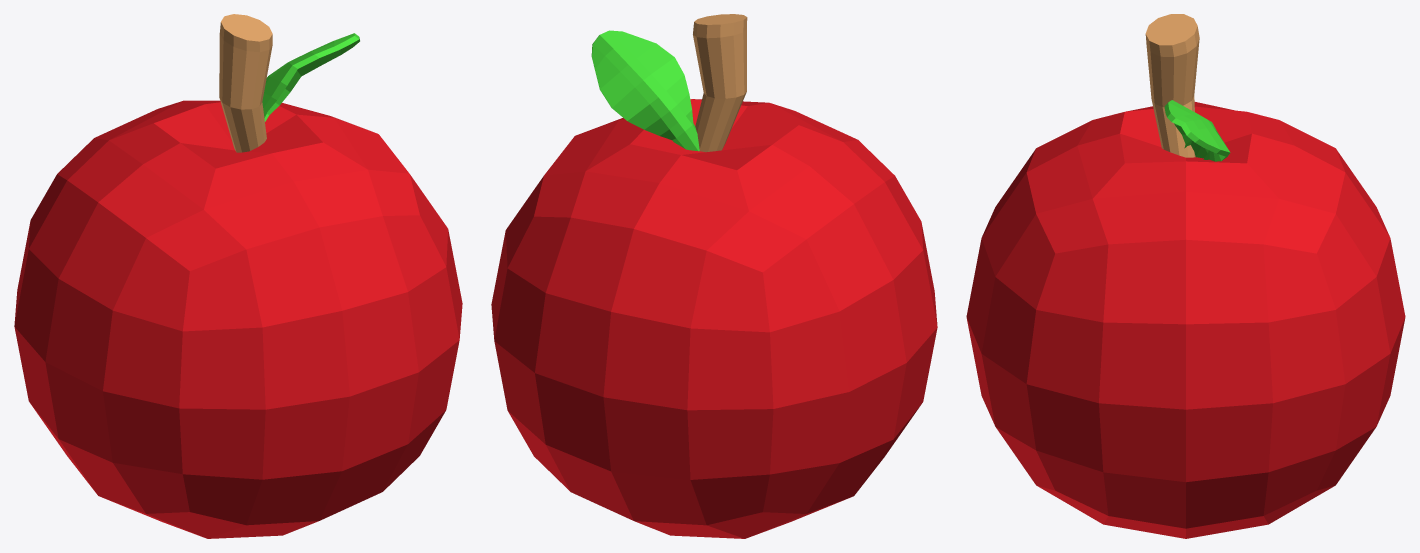
Rendered from apple.fbx.
3 renders of one model, left to right at view 1: azimuth 30°, elevation 25°; view 2: azimuth 150°, elevation 25°; view 3: azimuth 270°, elevation 25°, orthographic.
Parts seen in each view (by area): view 1: apple.001; view 2: apple.001; view 3: apple.001.
Part boxes in pixels (box(x1,y1,x2,y2)): apple.001: box(14, 14, 462, 538); apple.001: box(491, 14, 937, 538); apple.001: box(966, 14, 1405, 538).
Size of the model in its own units: 168 by 208 by 168.
